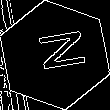N_W: (25, 31, 85, 79)
